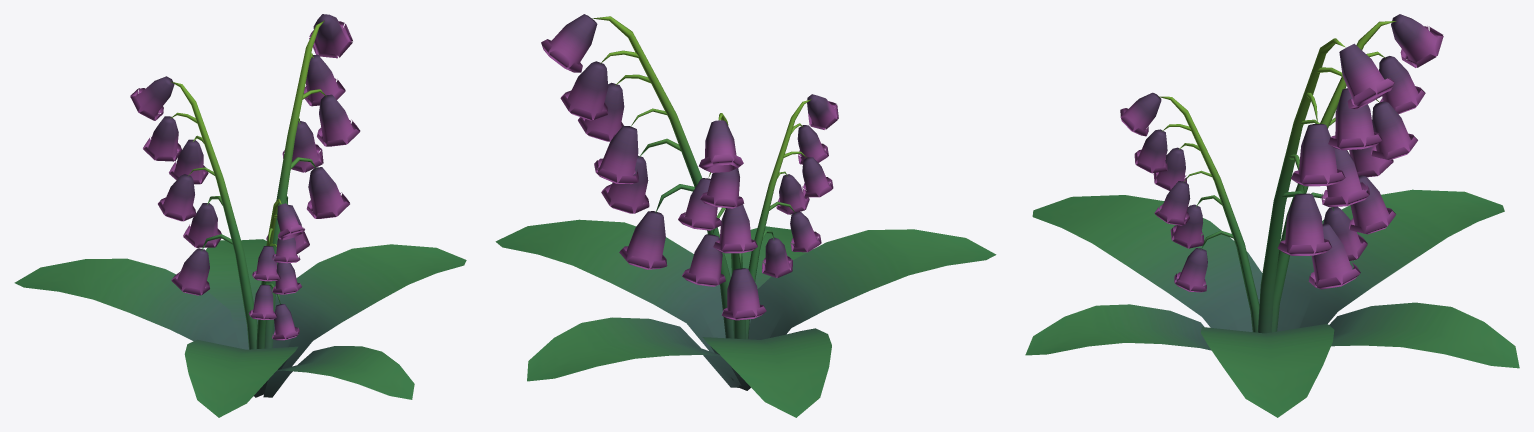
Rendered from flower_005_base_material_0.fbx.
3 renders of one model, left to right at view 1: azimuth 30°, elevation 25°; view 2: azimuth 150°, elevation 25°; view 3: azimuth 270°, elevation 25°, orthographic. The views are drawn at different scales.
Parts seen in each view (by area): view 1: flower_005_base_material_0; view 2: flower_005_base_material_0; view 3: flower_005_base_material_0.
Part boxes in pixels (<box>): flower_005_base_material_0: <box>14,14,466,417</box>; flower_005_base_material_0: <box>495,14,996,417</box>; flower_005_base_material_0: <box>1025,14,1519,417</box>.
Size of the model in its own units: 3.82 by 3.65 by 3.27.
1 material, 1 textured.
